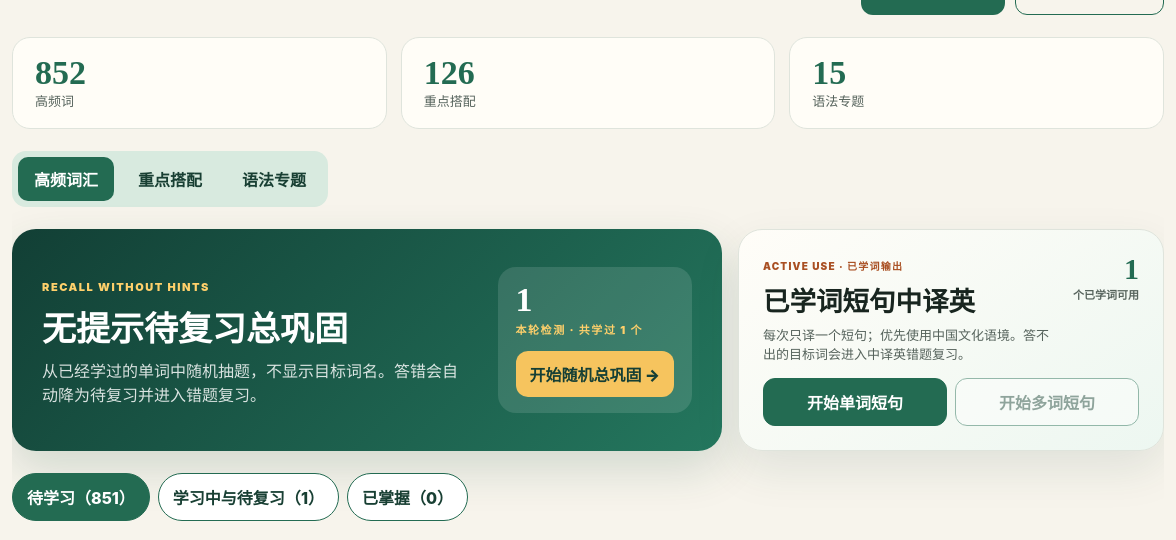
Scenario: KnowledgePage › records a passed learned-word translation without creating a mistake card
Click the button "开始单词短句" at (855, 402), box top-left (763, 378), bottom-right (947, 426)
(page scrolled)
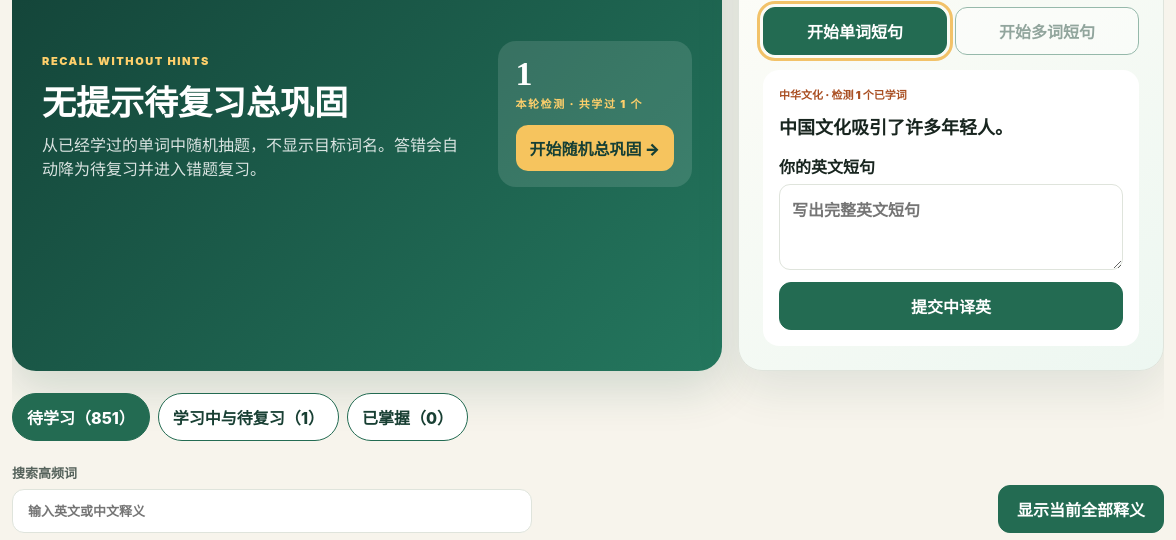
Type "Chinese culture attracts many young people." into the text box named "英文短句答案" at (951, 227), box top-left (779, 184), bottom-right (1123, 270)
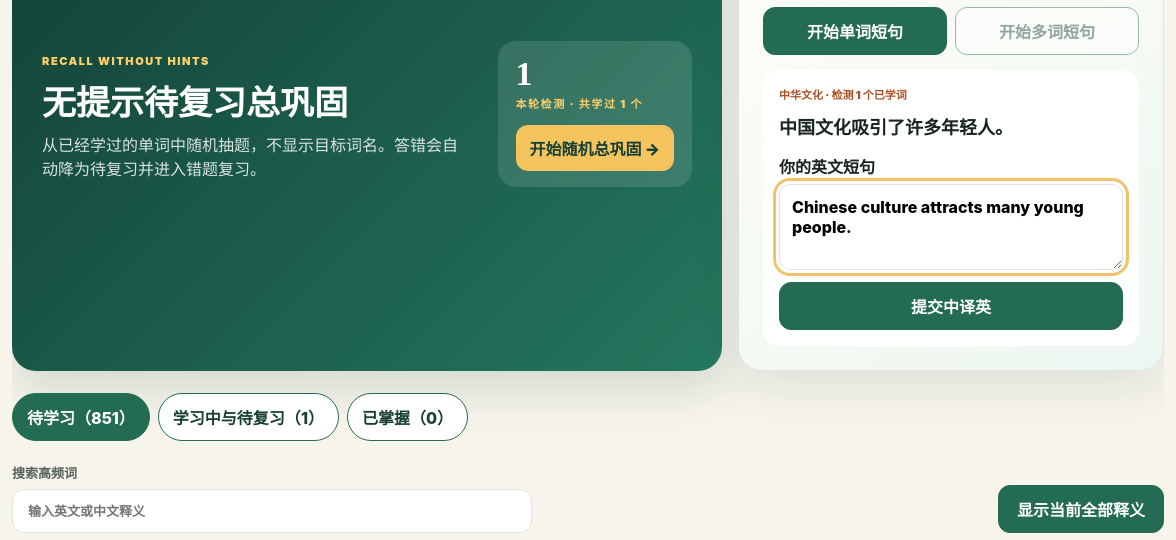
Click the button "提交中译英" at (951, 306), box top-left (779, 282), bottom-right (1123, 330)
(page scrolled)
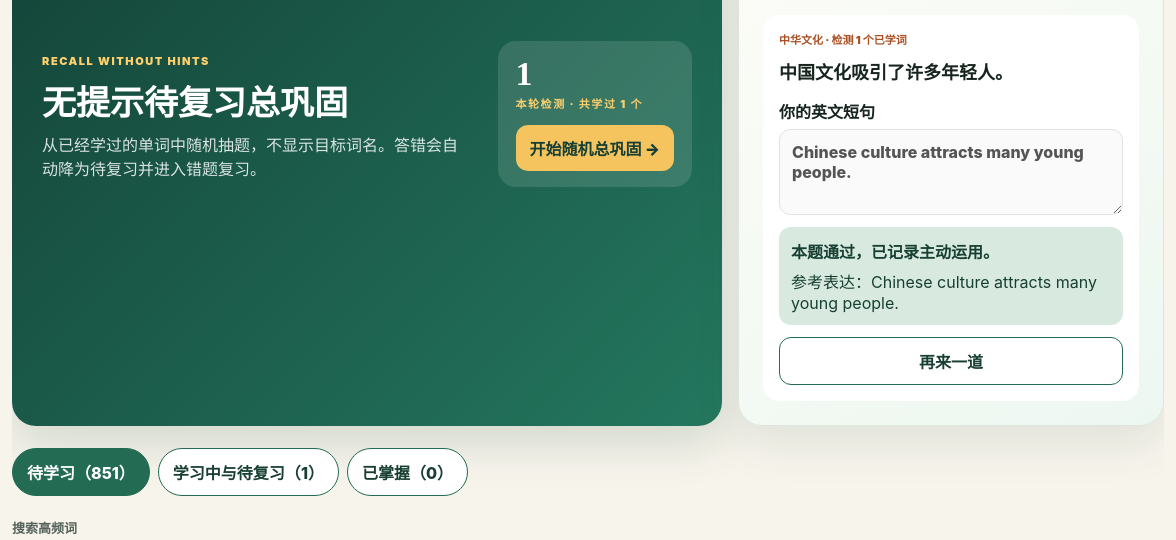
Now the text "本题通过，已记录主动运用。" is shown, box top-left (791, 242), bottom-right (999, 262)
